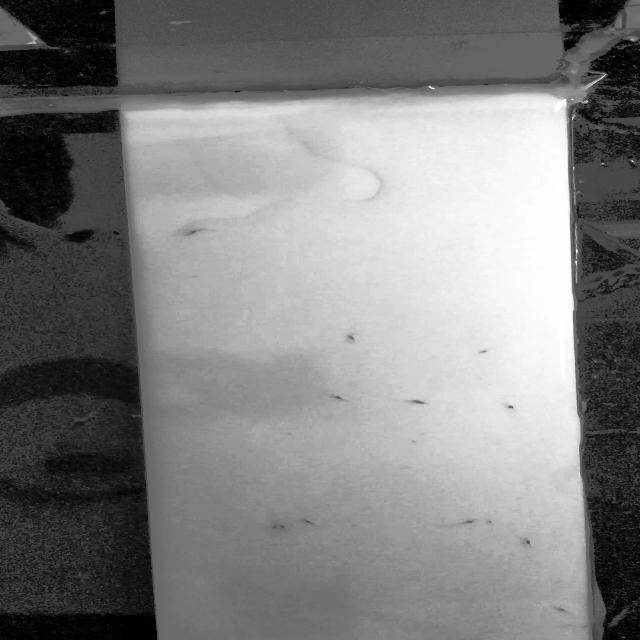shrimp: (296, 514, 335, 530), (507, 535, 548, 548), (178, 228, 216, 242), (335, 332, 368, 348), (321, 391, 355, 406), (500, 400, 530, 414), (449, 517, 481, 529), (407, 394, 428, 411), (472, 347, 498, 358), (553, 604, 574, 617), (278, 522, 292, 532), (269, 523, 281, 533)
